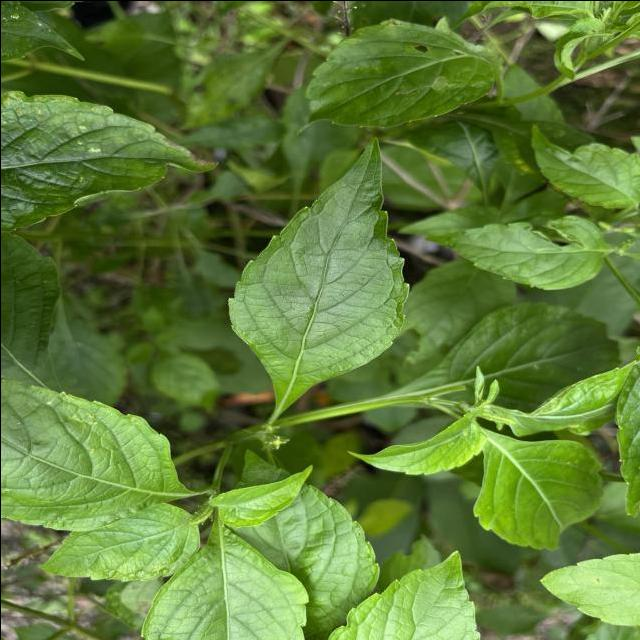Ocimum gratissimum: (223, 132, 414, 416), (0, 86, 222, 240), (0, 376, 210, 533), (138, 516, 312, 640), (470, 426, 604, 554), (326, 546, 482, 640), (32, 502, 204, 582), (344, 414, 488, 476)
